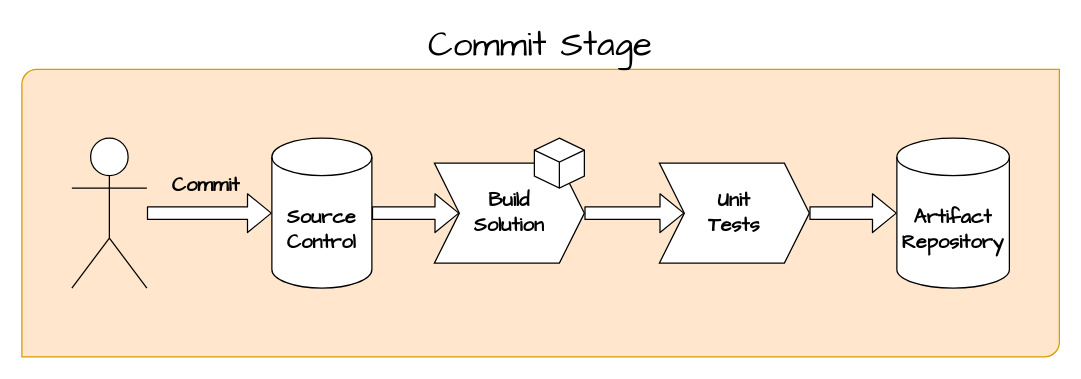
Some shapes in this 1081 by 379 pixel diagram are drawn without their labels. Here are the shapes that lost their labels. From the top down, the centre of each, then its label:
At (558,162): "Artifact".
At (109,212): "Developer".
